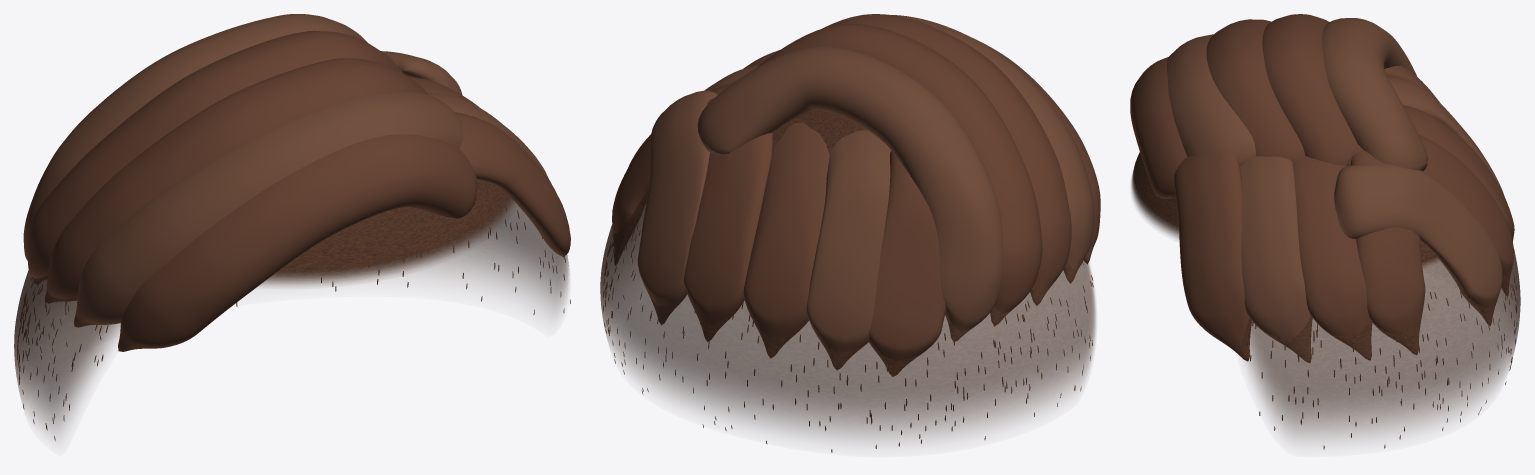
File: Masculine-taper-hair251.glb
3 renders of one model, left to right at view 1: azimuth 30°, elevation 25°; view 2: azimuth 150°, elevation 25°; view 3: azimuth 270°, elevation 25°, orthographic. The views are drawn at different scales.
Visible parts, largest first — view 1: 226 hair / Hair / main251, 226 hair / Hair / clipped grain251, 226 hair / Hair / close cut strokes251; view 2: 226 hair / Hair / main251, 226 hair / Hair / clipped grain251, 226 hair / Hair / close cut strokes251; view 3: 226 hair / Hair / main251, 226 hair / Hair / clipped grain251, 226 hair / Hair / close cut strokes251.
Boxes of the visible parts, bbox=[...] form: 226 hair / Hair / main251: bbox=[23, 14, 570, 351]; 226 hair / Hair / clipped grain251: bbox=[14, 179, 569, 436]; 226 hair / Hair / close cut strokes251: bbox=[17, 208, 570, 440]; 226 hair / Hair / main251: bbox=[612, 14, 1100, 376]; 226 hair / Hair / clipped grain251: bbox=[600, 110, 1095, 441]; 226 hair / Hair / close cut strokes251: bbox=[603, 226, 1093, 452]; 226 hair / Hair / main251: bbox=[1130, 14, 1514, 362]; 226 hair / Hair / clipped grain251: bbox=[1131, 152, 1520, 441]; 226 hair / Hair / close cut strokes251: bbox=[1239, 276, 1516, 449].
Size of the model in its own units: 0.9812 by 0.6928 by 0.752.
Materials: 4 (1 with a texture image).
